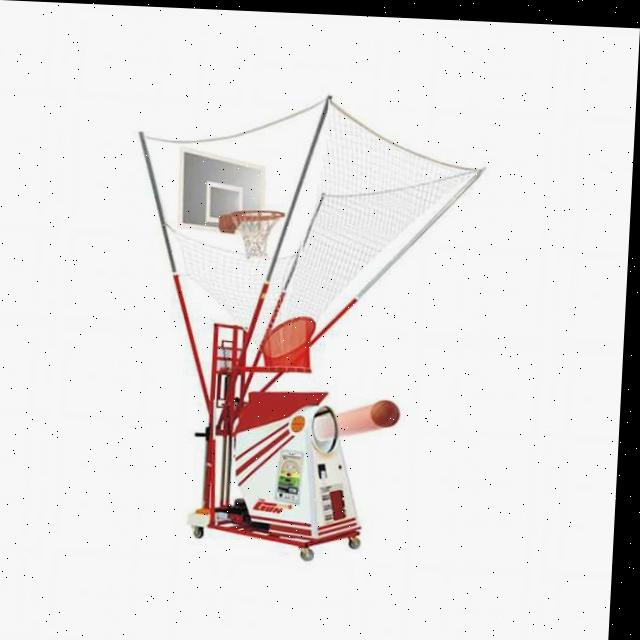hoop: (228, 209, 287, 260)
